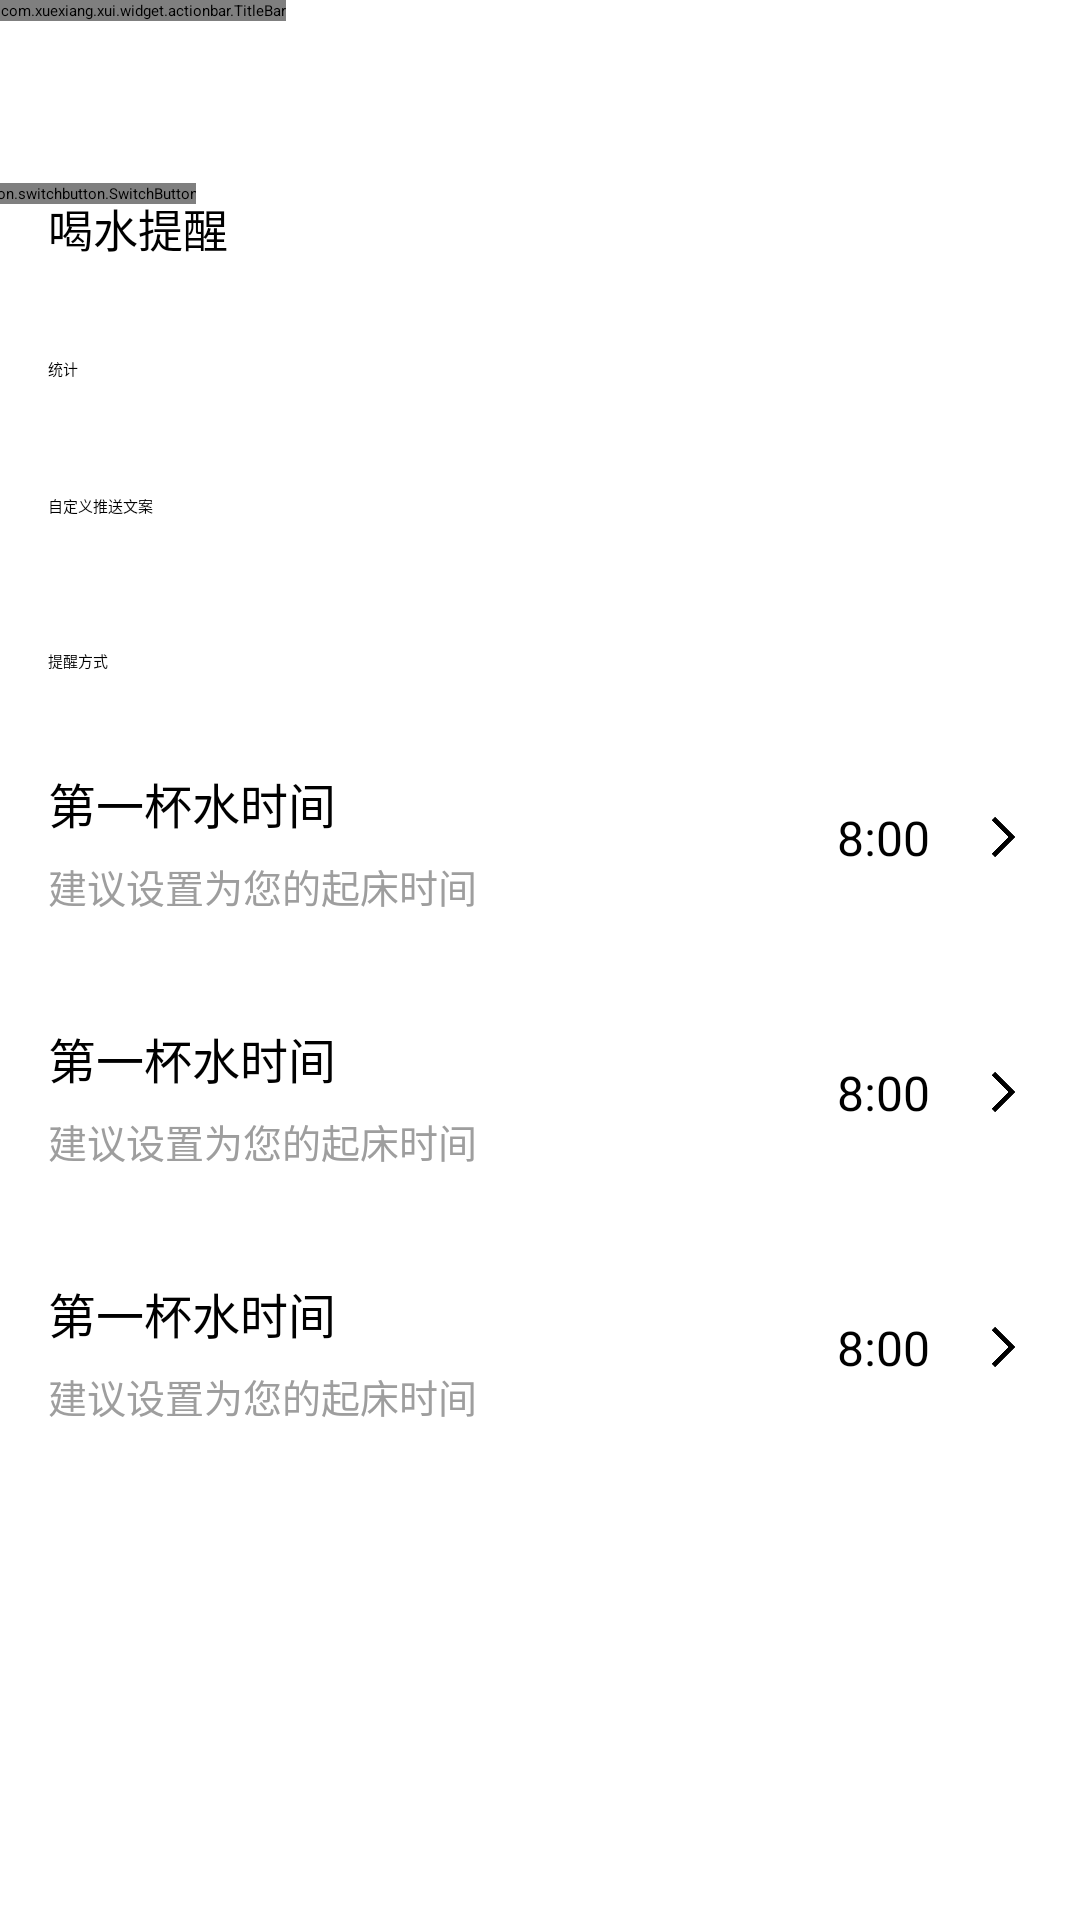

Icons on this 1080 x 1920 Android screen, each with its box as {"x1": x1, "y1": y1, "x2": x2, "y2": y2}:
chevron right: {"x1": 992, "y1": 817, "x2": 1015, "y2": 857}, {"x1": 992, "y1": 1072, "x2": 1015, "y2": 1112}, {"x1": 992, "y1": 1327, "x2": 1015, "y2": 1367}
